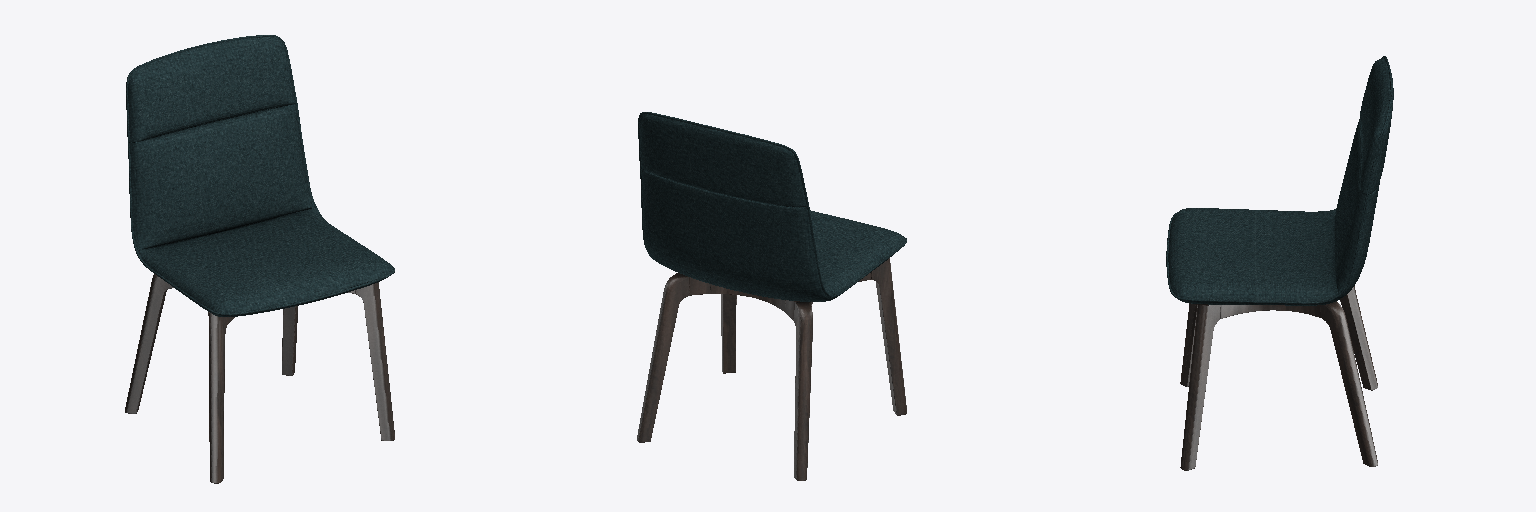
3 renders of one model, left to right at view 1: azimuth 30°, elevation 25°; view 2: azimuth 150°, elevation 25°; view 3: azimuth 270°, elevation 25°, orthographic.
Visible parts, largest first — view 1: solid_001, solid_002; view 2: solid_001, solid_002; view 3: solid_001, solid_002.
Part boxes in pixels (x1,y1,x2,y2): solid_001: (126,35,394,316); solid_002: (125,274,394,483); solid_001: (638,112,906,301); solid_002: (637,258,906,480); solid_001: (1166,56,1393,305); solid_002: (1180,286,1377,470).
Size of the model in its own units: 0.5229 by 0.9222 by 0.5587.
Materials: 1 (1 with a texture image).